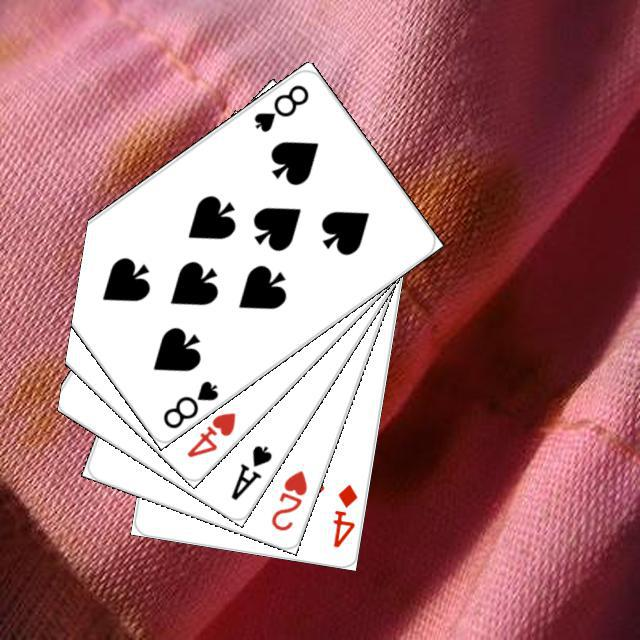2h: (266, 465, 309, 533)
4d: (328, 479, 359, 549)
4h: (181, 407, 238, 460)
8s: (157, 375, 221, 431), (248, 79, 311, 134)
As: (225, 440, 274, 503)
